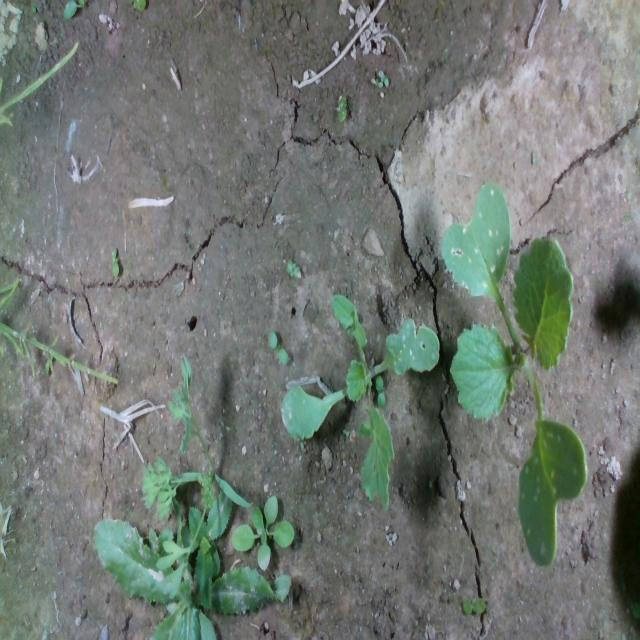weed: (266, 330, 290, 361), (466, 588, 488, 616), (107, 245, 123, 282), (285, 255, 302, 278), (376, 63, 389, 86)
